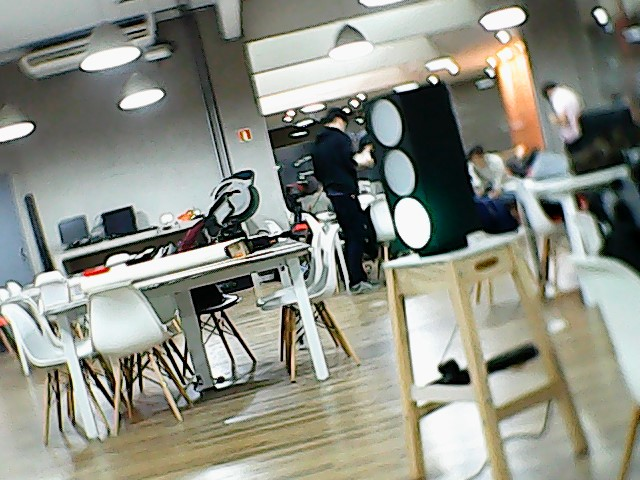verde: (365, 80, 481, 258)
